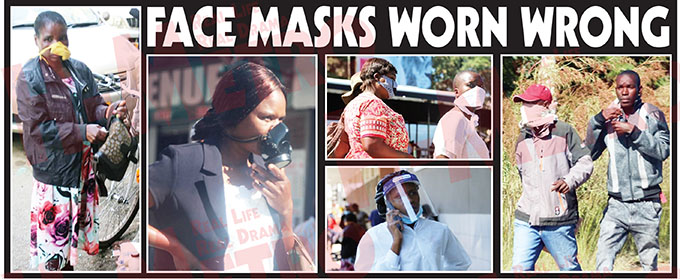mask_weared_incorrect: (391, 193, 431, 224), (41, 34, 72, 62)
with_mask: (244, 103, 292, 161), (514, 98, 553, 127), (460, 80, 487, 106), (380, 72, 402, 99)
without_mask: (616, 81, 639, 105)
